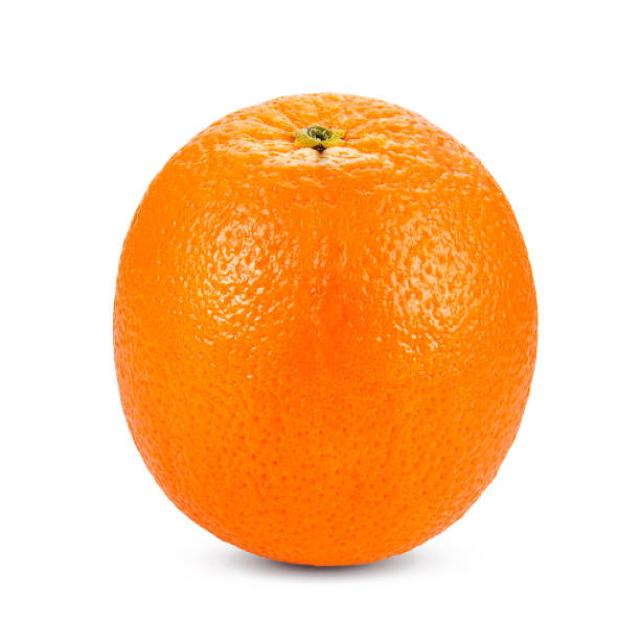Ripe: (111, 82, 544, 569)
